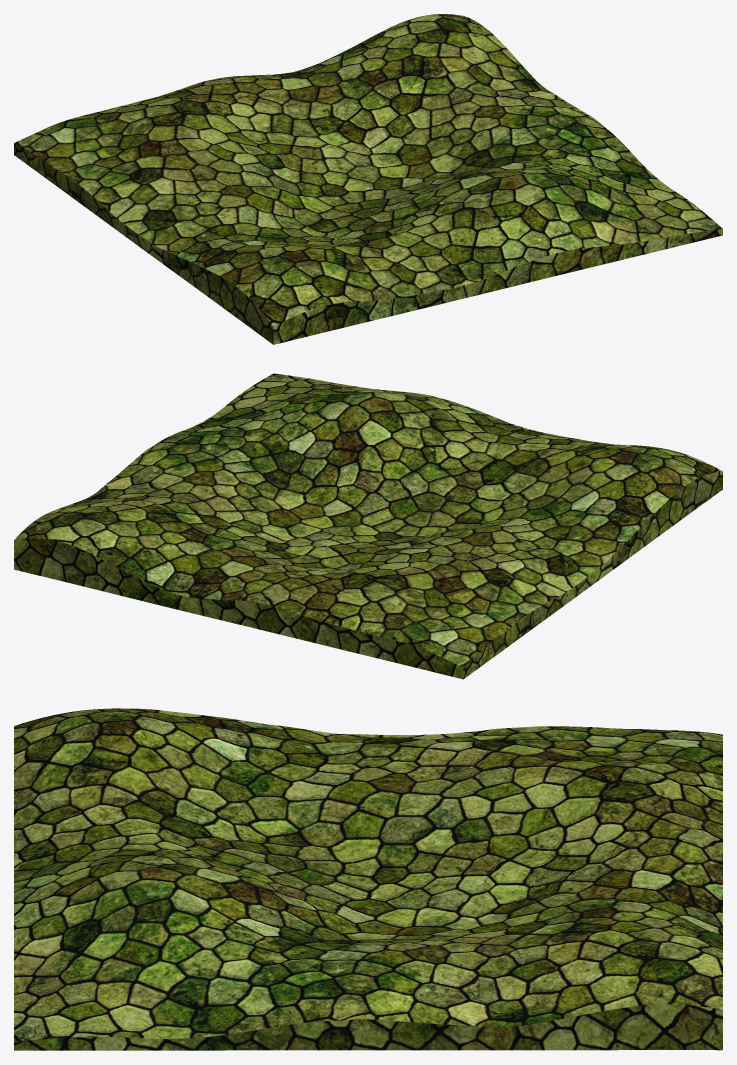
Rendered from Landscape.FBX.
The picture shows the model from 3 angles, top to bottom: view 1: azimuth 30°, elevation 25°; view 2: azimuth 150°, elevation 25°; view 3: azimuth 270°, elevation 25°; orthographic projection. The views are drawn at different scales.
Visible parts, largest first — view 1: Box001; view 2: Box001; view 3: Box001.
Part boxes in pixels (x1=…): Box001: x1=14, y1=14, x2=722, y2=344; Box001: x1=14, y1=373, x2=722, y2=679; Box001: x1=14, y1=708, x2=722, y2=1050.
Size of the model in its own units: 197 by 22.61 by 197.
1 material, 1 textured.
